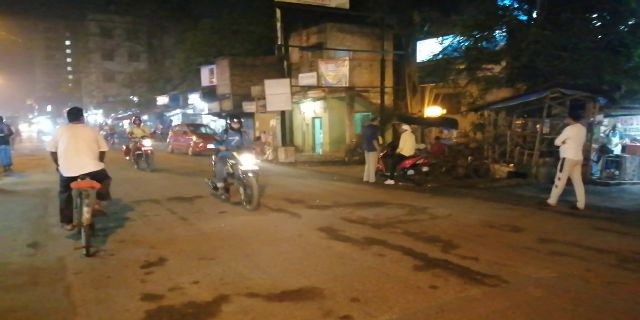Cycle: (52, 106, 105, 258)
Motorbike: (205, 115, 270, 212), (120, 115, 164, 174)
